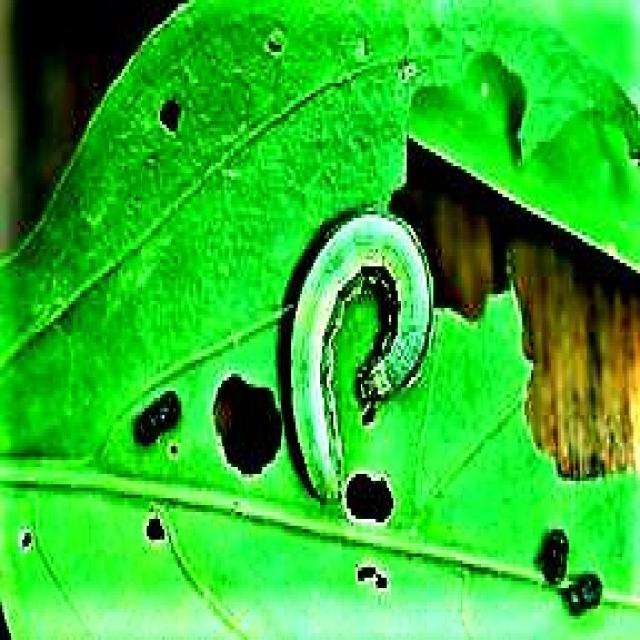armyworm: (0, 0, 638, 637), (289, 195, 436, 513)
